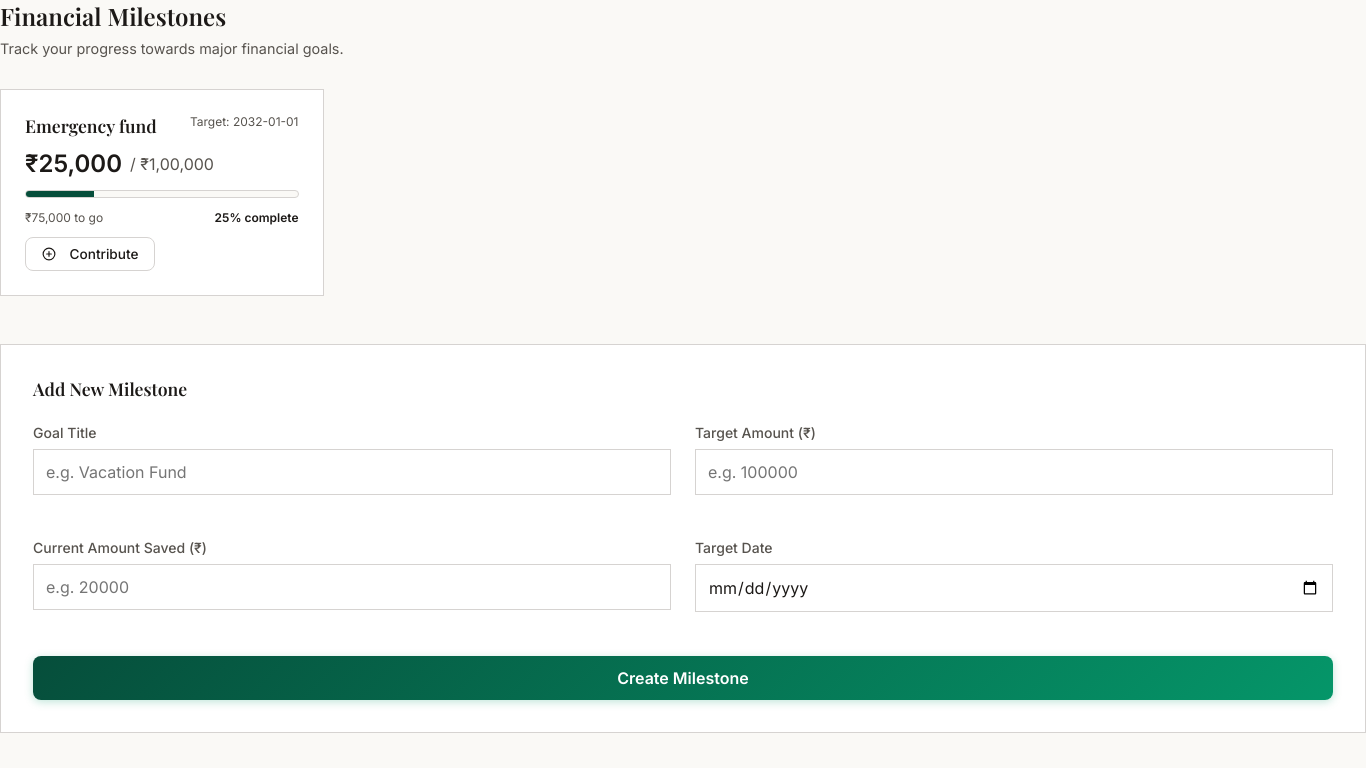
Test: Milestones page › accessible dialog semantics › a validation error is announced with role="alert"
Expected: the heading "Emergency fund" is shown, [25,114,157,137]
Click the button "Contribute" at (90, 254), box [25,237,155,271]
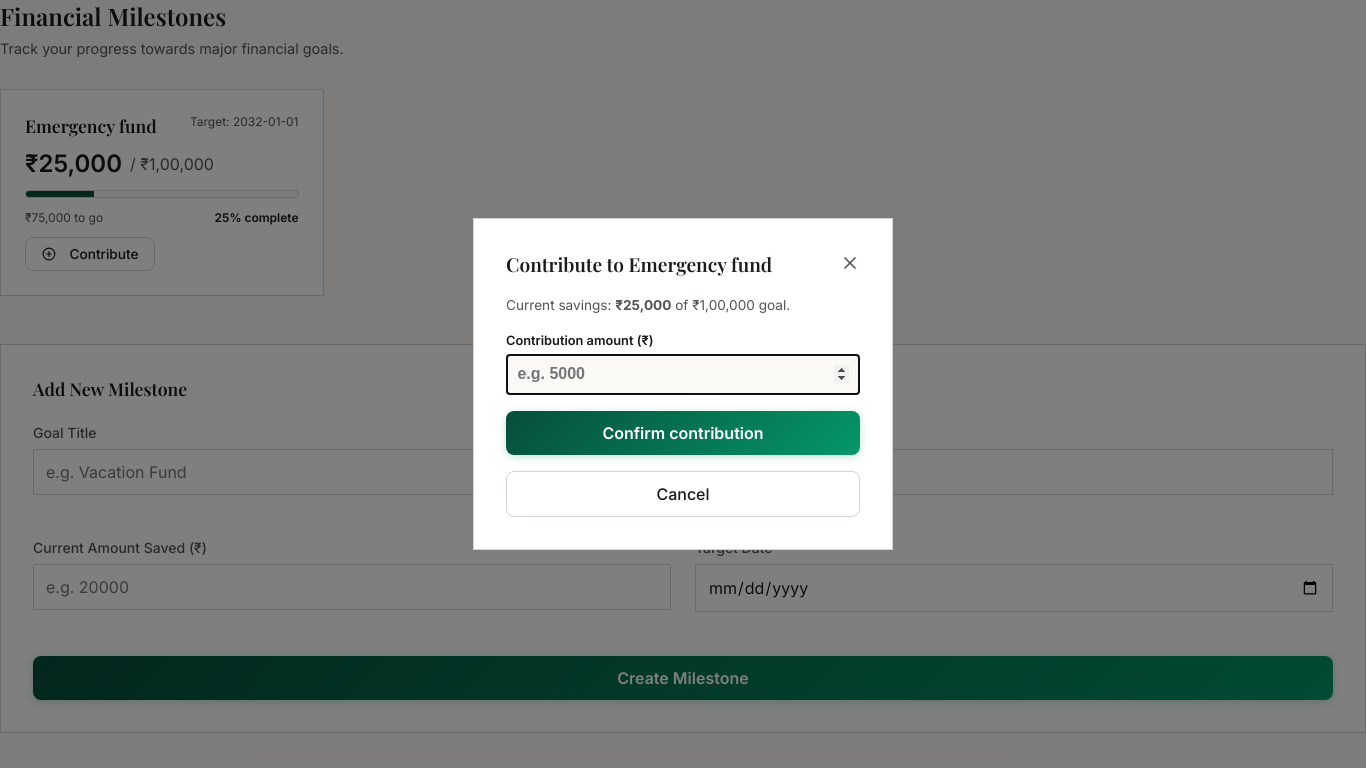
Type "0" into the number field labelled "Contribution amount (₹)" at (683, 374), box [506,354,860,395]
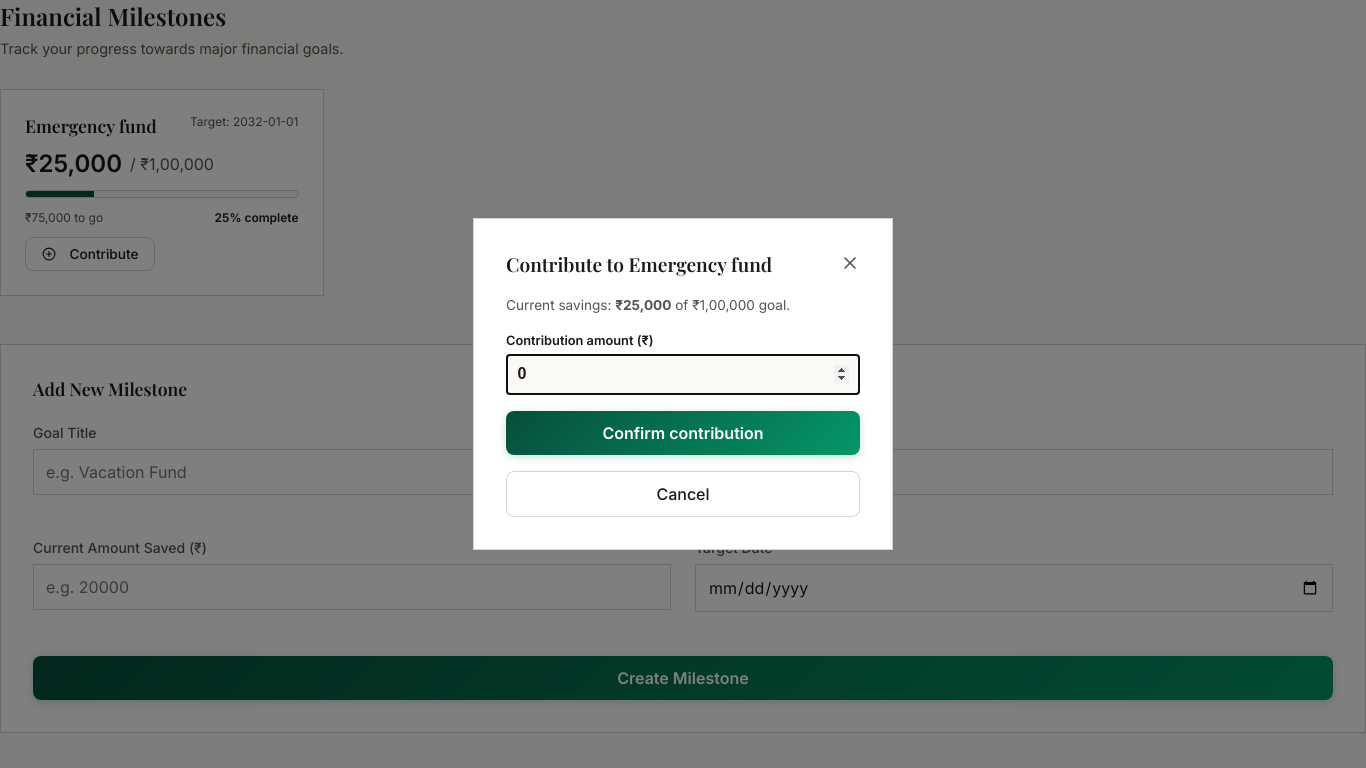
Submit the form labelled "Contribution amount (₹) Confirm contribution Cancel", box [506,333,860,517]
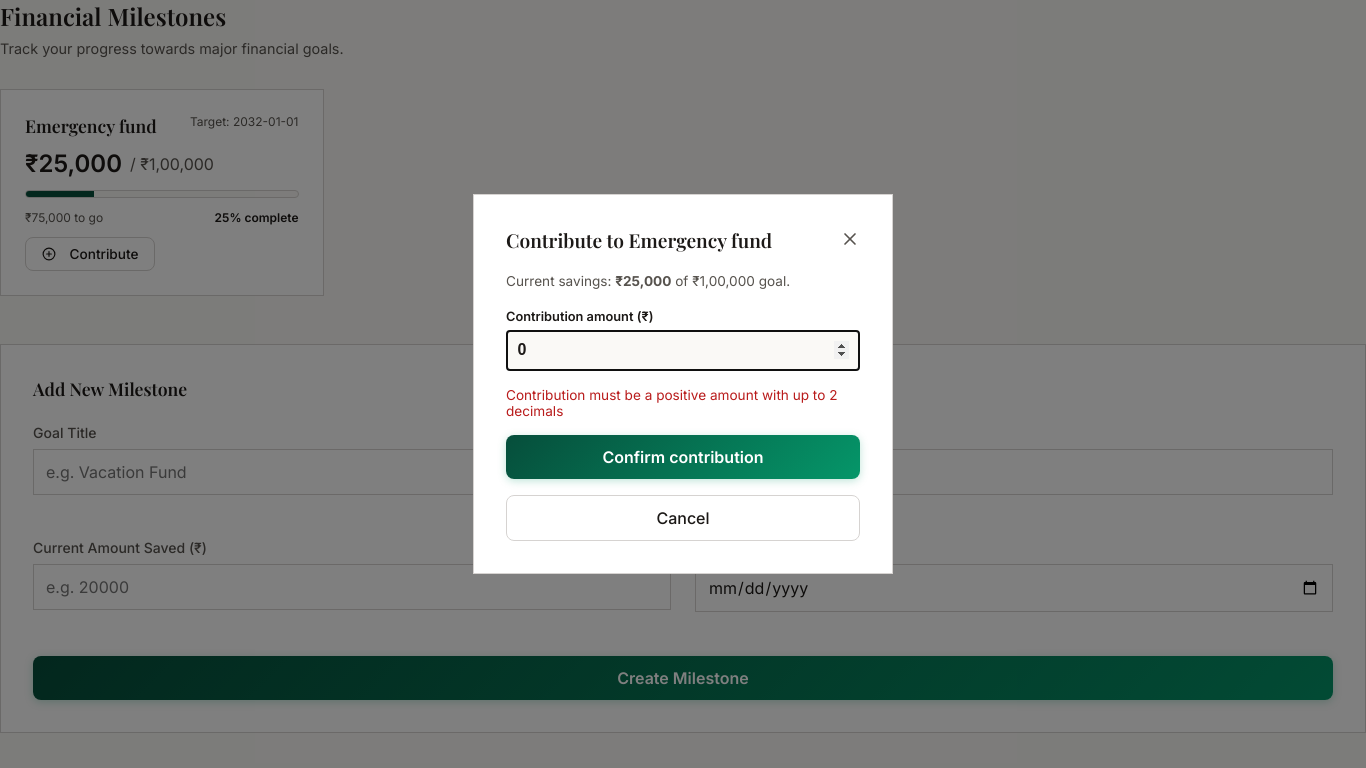
Expected: the message reads "Contribution must be a positive amount with up to 2 decimals", [506,387,838,419]
